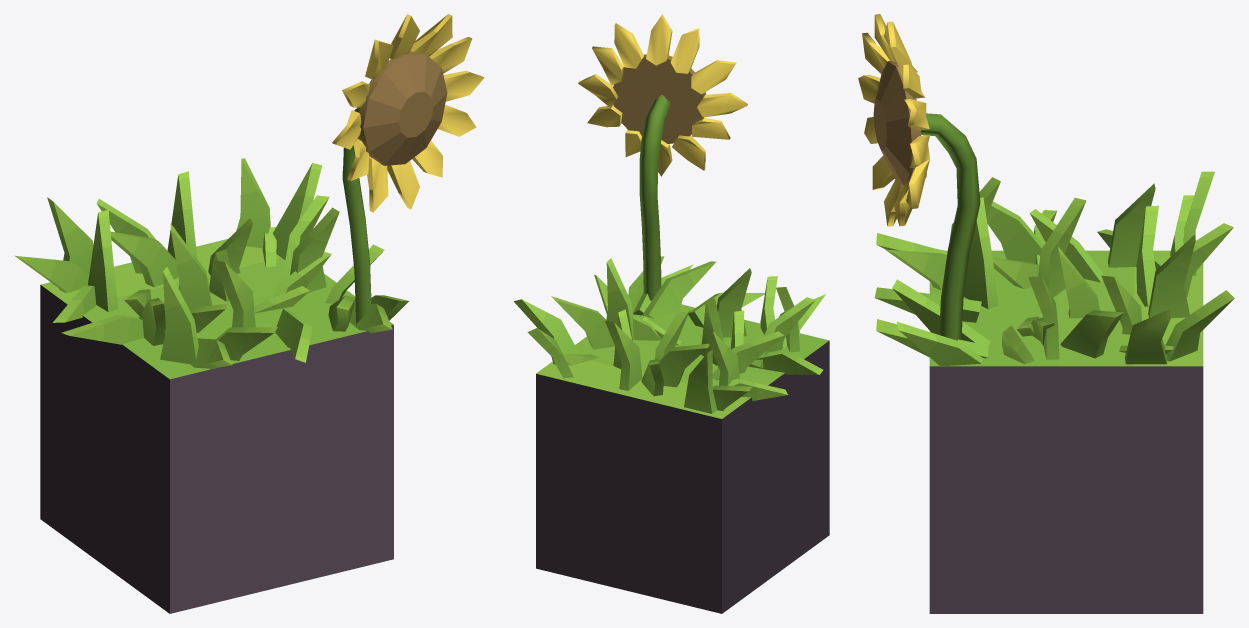
The model's file is tile_floor_nature_grass04.FBX.
3 views of the same model, side by side, from view 1: azimuth 30°, elevation 25°; view 2: azimuth 150°, elevation 25°; view 3: azimuth 270°, elevation 25° (orthographic). The views are drawn at different scales.
Parts seen in each view (by area): view 1: tile_floor_nature_grass04; view 2: tile_floor_nature_grass04; view 3: tile_floor_nature_grass04.
Part boxes in pixels (box(x1,y1,x2,y2)): tile_floor_nature_grass04: box(14, 14, 484, 613); tile_floor_nature_grass04: box(514, 14, 829, 613); tile_floor_nature_grass04: box(858, 14, 1234, 613).
Size of the model in its own units: 62.6 by 93.8 by 54.25.
